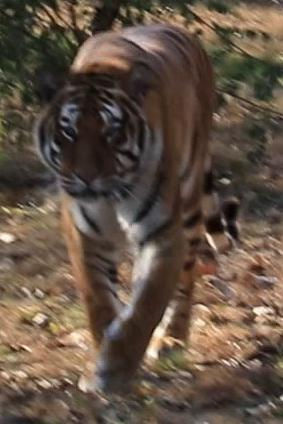tiger: (34, 25, 237, 391)
